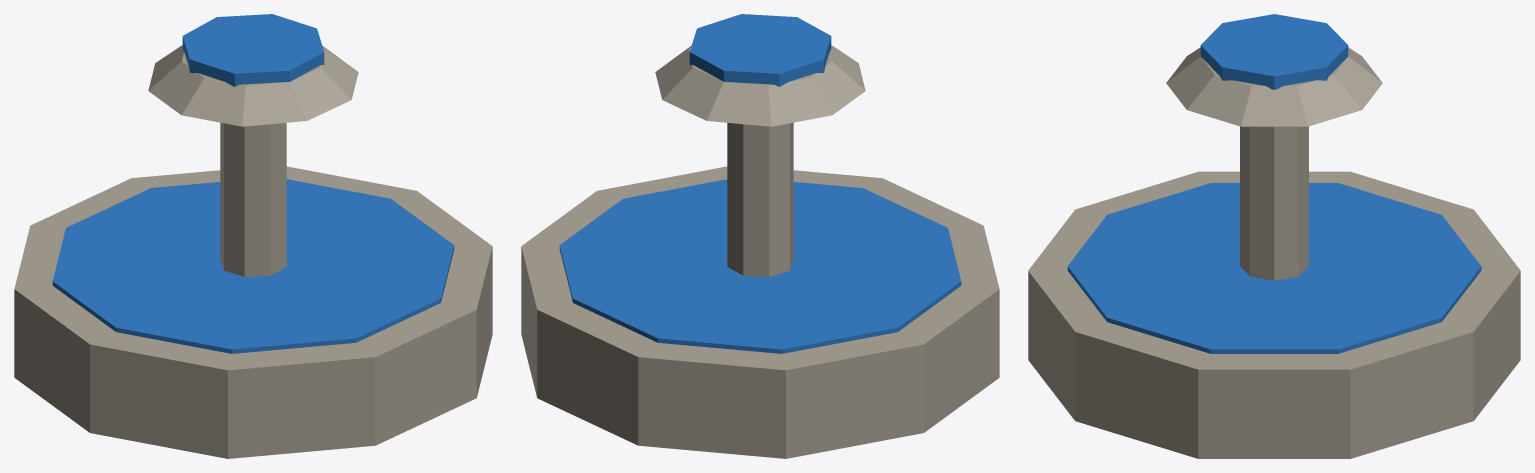
The model's file is garden2_stone_fountain.glb.
3 renders of one model, left to right at view 1: azimuth 30°, elevation 25°; view 2: azimuth 150°, elevation 25°; view 3: azimuth 270°, elevation 25°, orthographic.
Parts seen in each view (by area): view 1: stone_fountain; view 2: stone_fountain; view 3: stone_fountain.
Boxes of the visible parts, x1,y1,x2,y2 form: stone_fountain: (14,14,492,458); stone_fountain: (521,14,999,458); stone_fountain: (1028,14,1520,458).
Bounding box in the file's own units: 0.9511 × 0.705 × 1.
